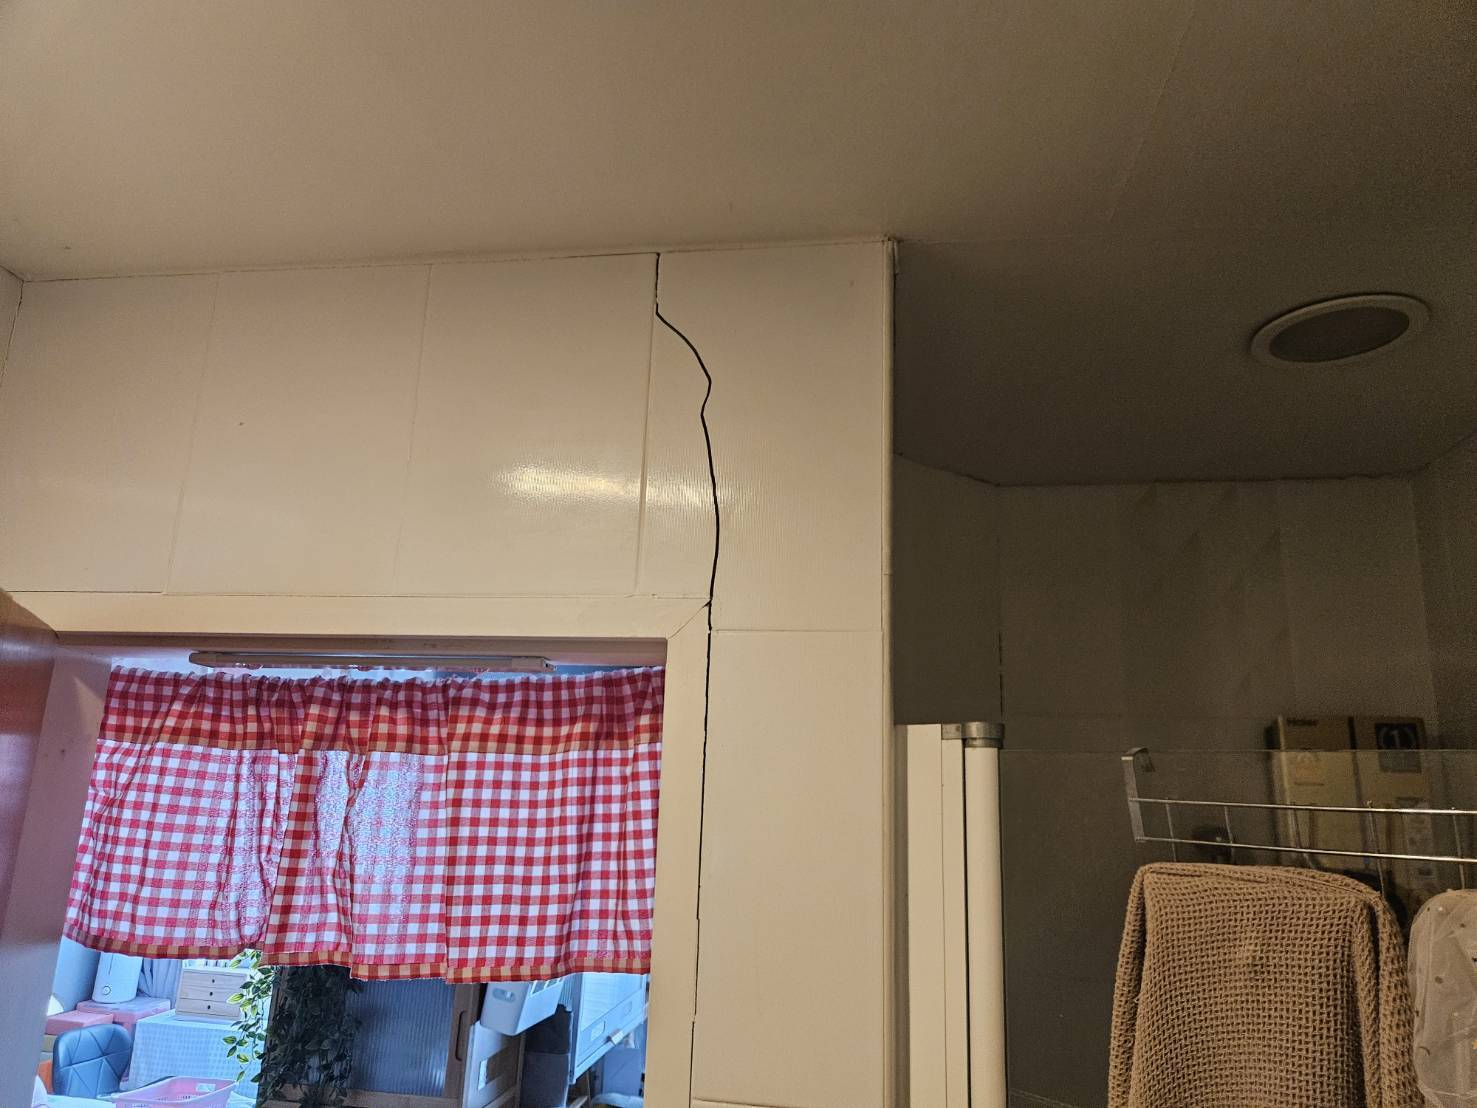Medium: (654, 292, 853, 680)
